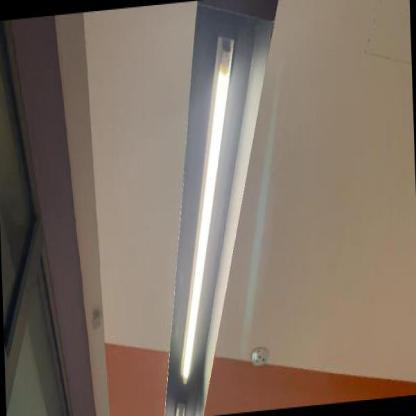light_on: (164, 20, 252, 396)
